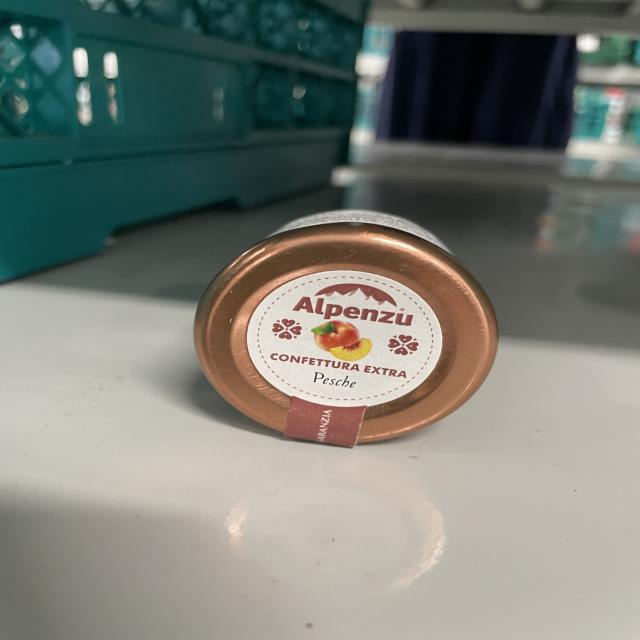object_name: (201, 224, 504, 447)
